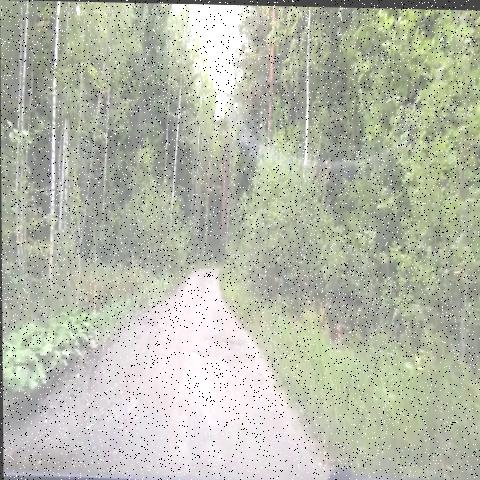pothole: (93, 380, 142, 432), (212, 326, 248, 363), (187, 339, 216, 364)
